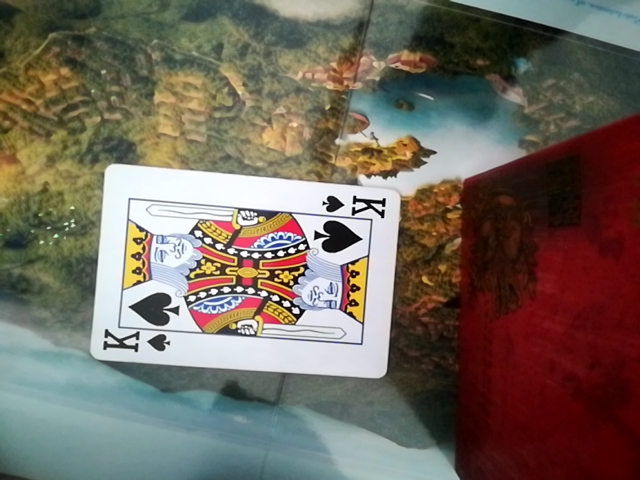ht k: (83, 164, 401, 382)
